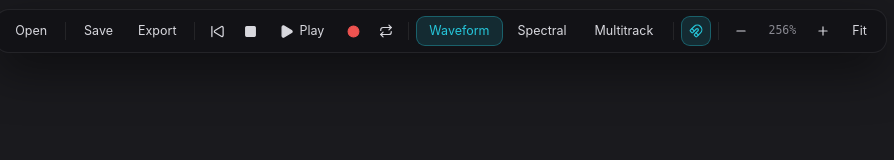
Scenario: Toolbar — G3 floating pill (file ops · transport · view segment · zoom) › zoom cluster (drives the editor zoom the wheel gesture uses) › Fit restores the document default zoom (the 100% state)
Click the button "Fit". click: (860, 31)
box: [841, 16, 878, 46]
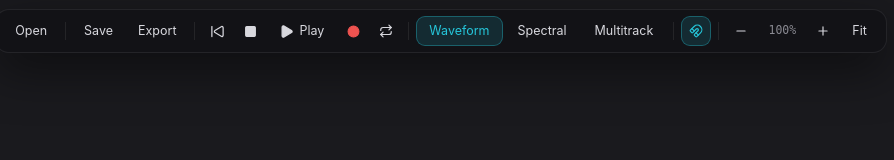
Check: the text with test id "zoom-readout" reads "100%", box [768, 23, 796, 37]
